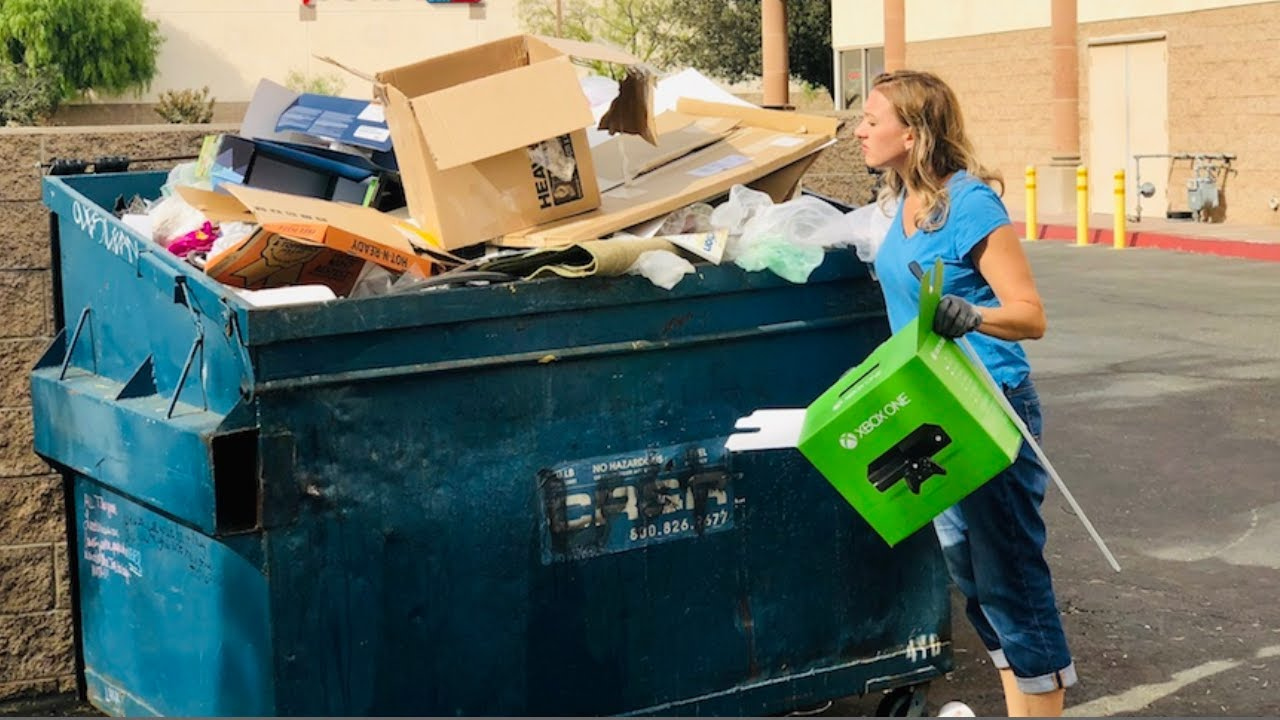Dumpster: (26, 142, 962, 720)
Person: (832, 65, 1095, 718)
